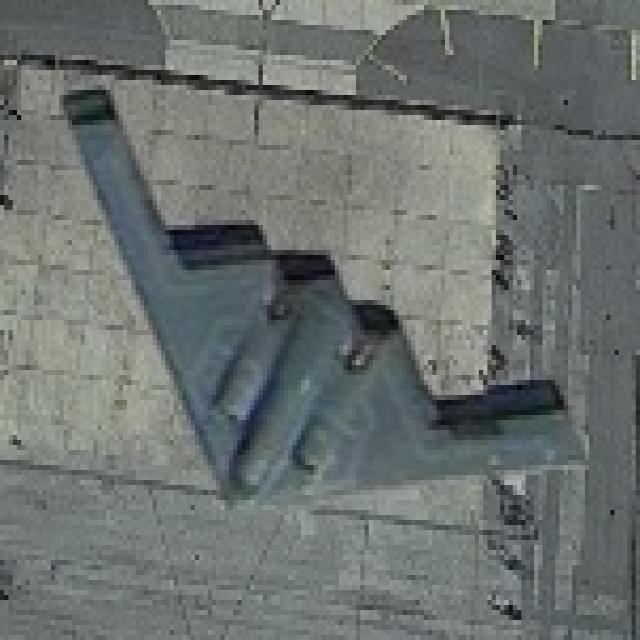B-2_TopDown: (51, 75, 581, 515)
